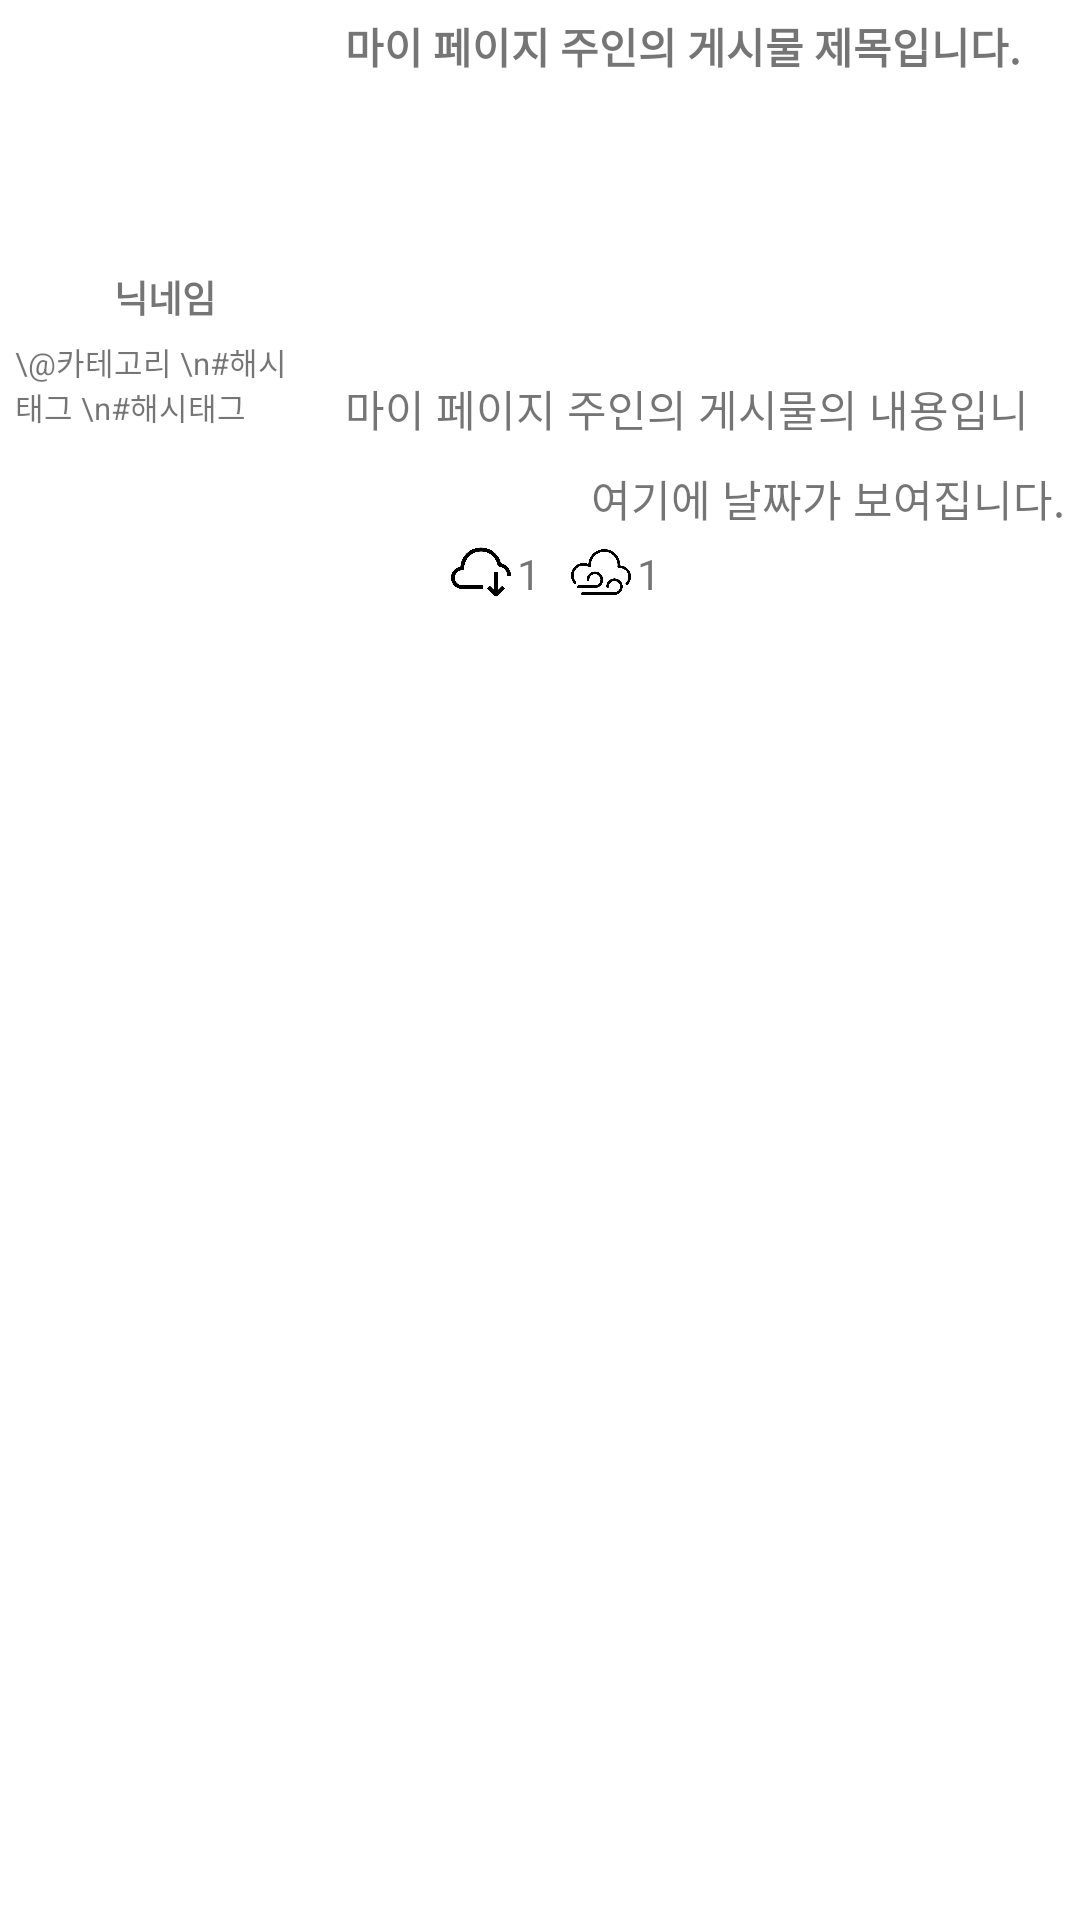

Point at icon controls on the screen. Image size 1080*1920, points as (x,y).
download: (481,572)
